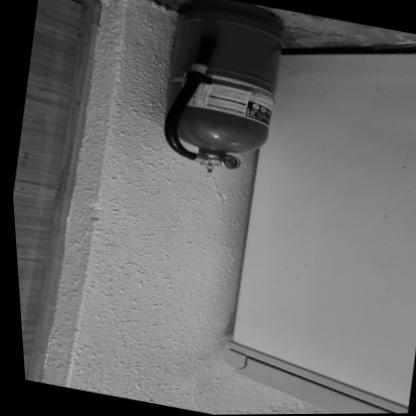FE: (145, 0, 297, 178)
